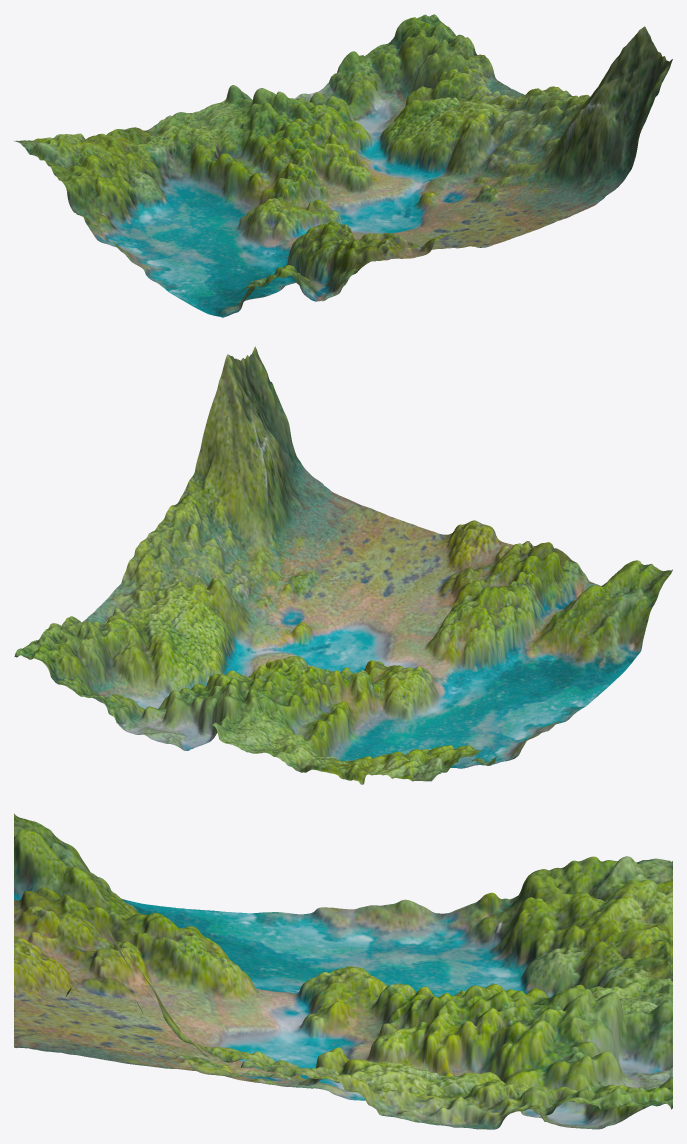
Rendered from dsm_d5dee30a8c_mesh.glb.
3 renders of one model, top to bottom at view 1: azimuth 30°, elevation 25°; view 2: azimuth 150°, elevation 25°; view 3: azimuth 270°, elevation 25°, orthographic. The views are drawn at different scales.
Parts seen in each view (by area): view 1: geometry_0; view 2: geometry_0; view 3: geometry_0.
Part boxes in pixels (x1,y1,x2,y2): geometry_0: (14, 14, 672, 317); geometry_0: (14, 346, 672, 784); geometry_0: (14, 813, 672, 1129).
Size of the model in its own units: 2 by 1 by 2.
